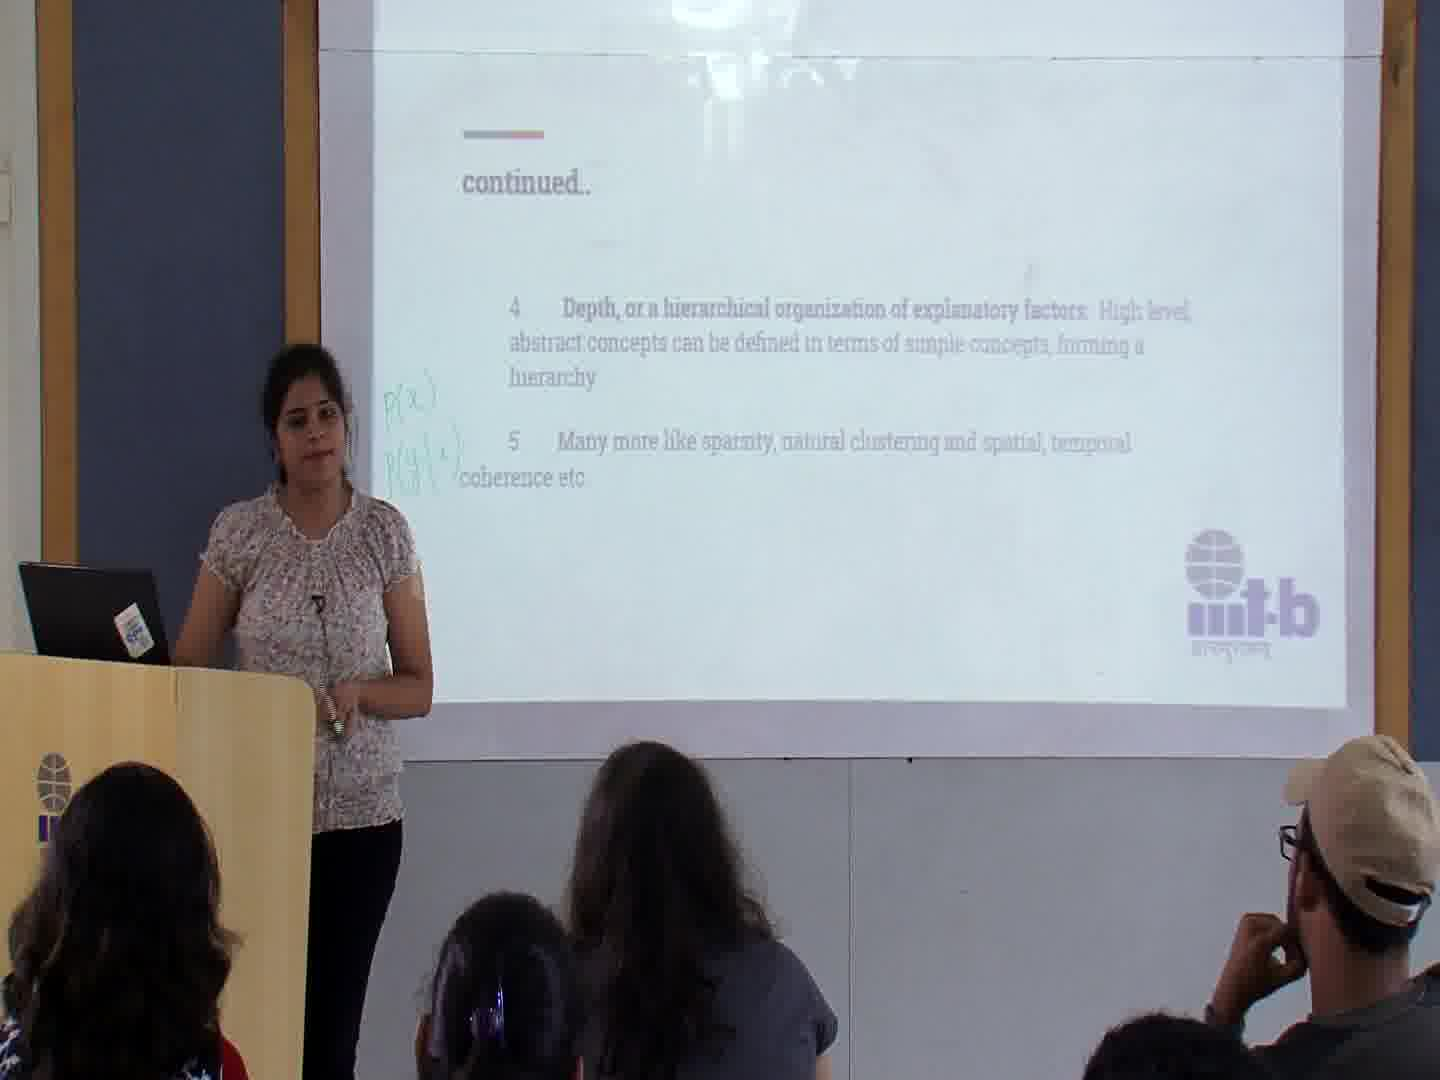slide: (375, 1, 1346, 708)
